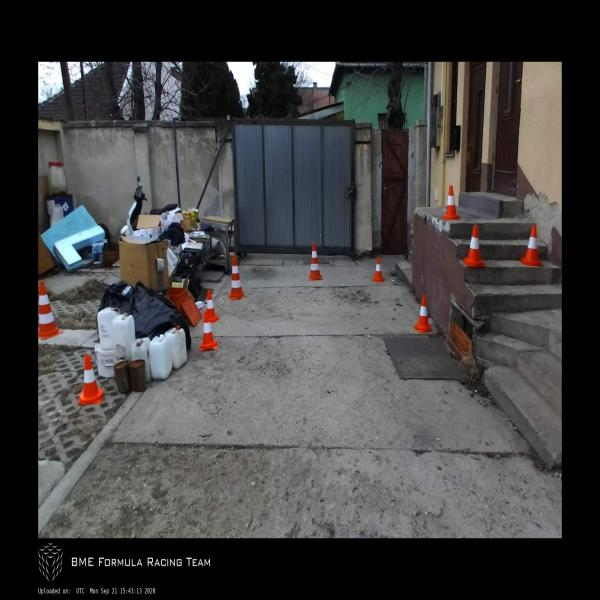large_orange_cone: (38, 282, 63, 340), (228, 256, 247, 300), (308, 241, 323, 281)
orange_cone: (79, 354, 104, 406), (462, 224, 486, 267), (520, 224, 543, 267), (200, 311, 217, 352), (414, 296, 433, 332), (442, 184, 460, 220), (202, 290, 220, 324), (372, 257, 385, 281)
